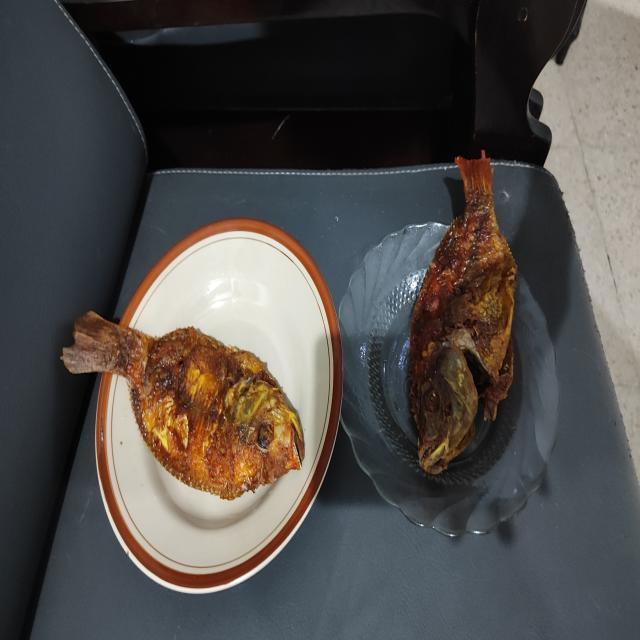ikan_mujair: (62, 311, 304, 500), (408, 151, 516, 474)
